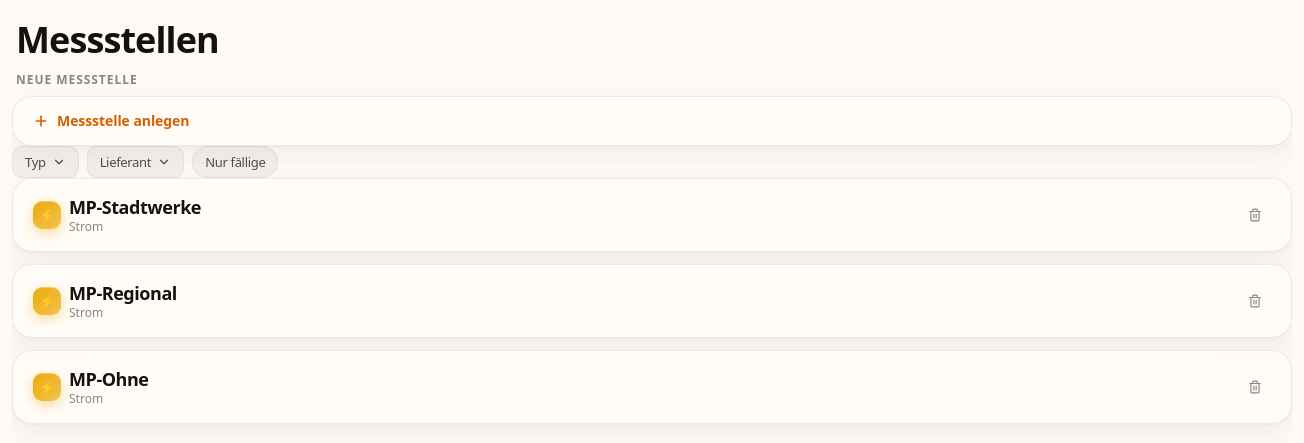
it: MeasuringPointsAdminPage Wizard › filtert die Liste nach Lieferant inkl. „ohne Lieferant"-Option
The width and height of the screenshot is (1304, 443).
Expected: the text "MP-Stadtwerke" is shown, 69,195 -> 201,219
Click the button "Lieferant" at [135, 162], box 87,146 -> 184,178
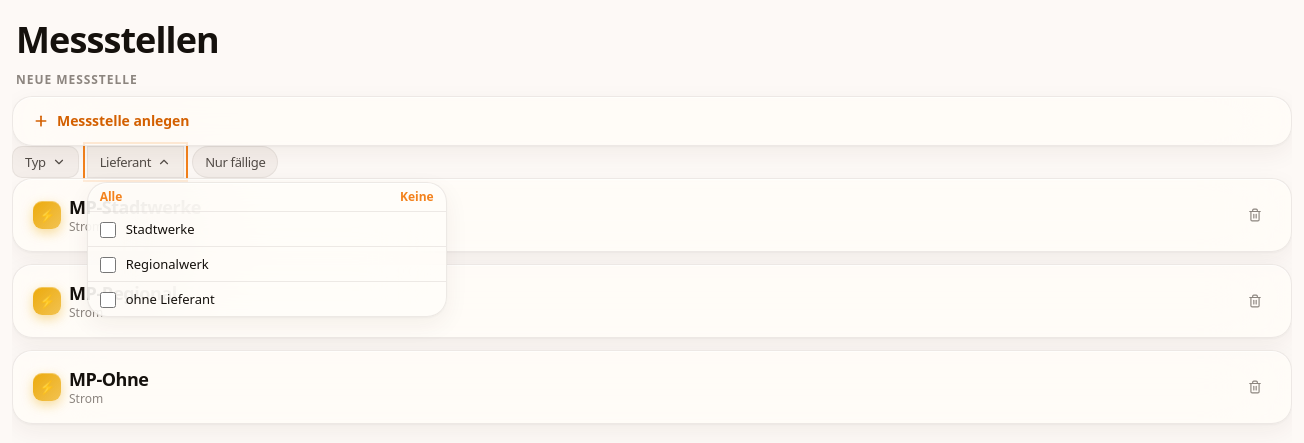
Click the checkbox labelled "Stadtwerke" at [108, 230], box 100,222 -> 116,238
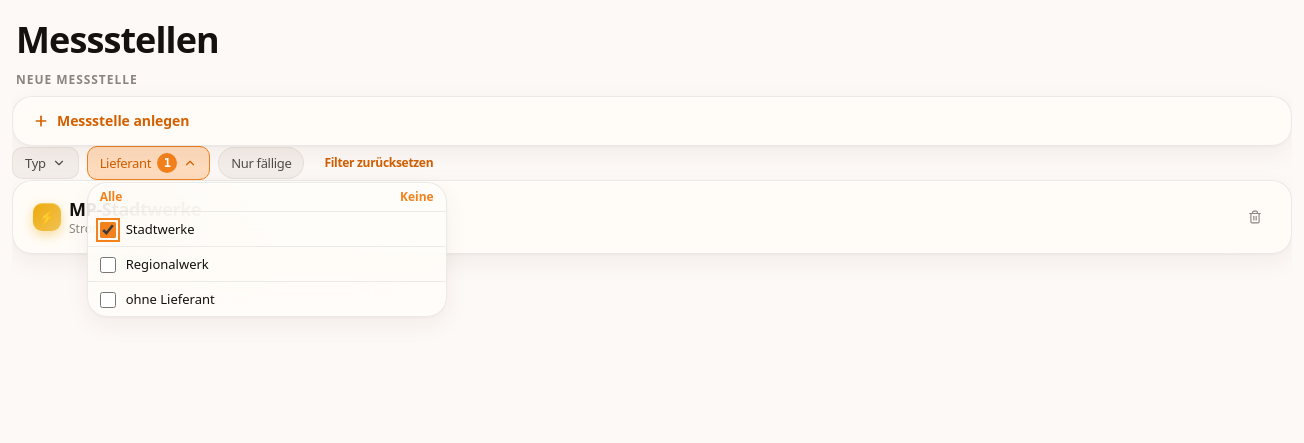
Expected: the text "MP-Stadtwerke" is shown, 69,197 -> 201,221
Result: the link "MP-Regional" is gone
Result: the link "MP-Ohne" is gone
Click the checkbox labelled "ohne Lieferant" at [108, 300], box 100,292 -> 116,308
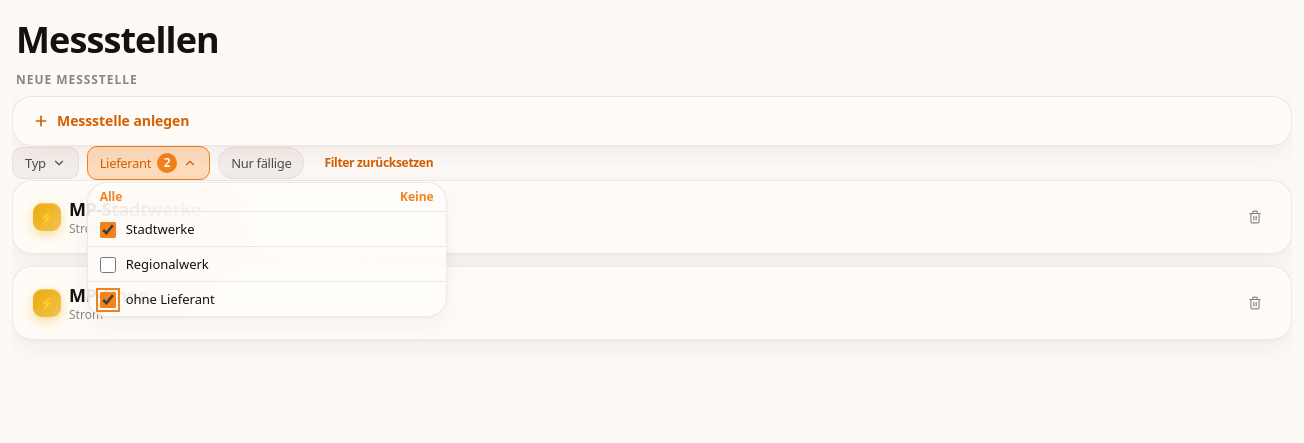
Expected: the link "MP-Regional" is not shown
Result: the text "MP-Ohne" is shown at 69,283 -> 148,307
